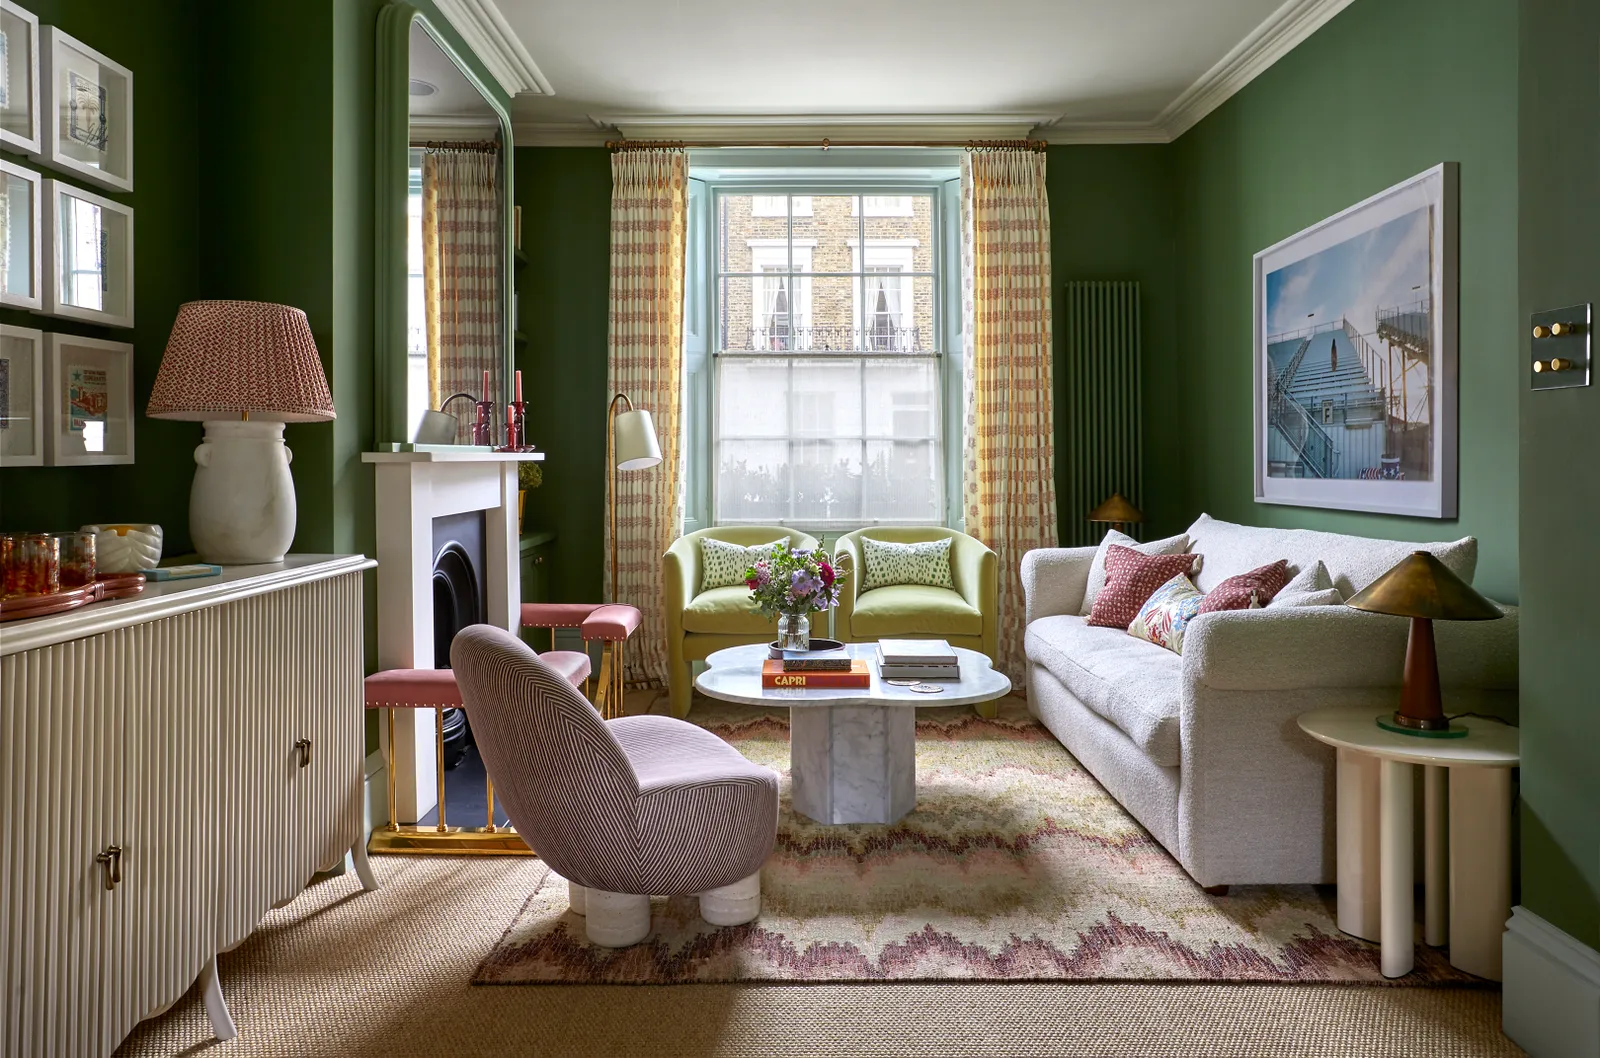chair: (446, 619, 783, 954), (661, 520, 827, 719), (835, 523, 1003, 662)
floor lamp: (596, 380, 666, 605)
flower vase: (737, 549, 844, 658)
side table: (1293, 705, 1528, 994)
sofa: (1018, 507, 1510, 896)
table: (694, 639, 1014, 829)
table lamp: (141, 295, 346, 564), (1345, 541, 1515, 737)
wall art: (1245, 157, 1465, 523), (47, 24, 146, 192), (39, 177, 145, 331), (45, 325, 141, 471), (0, 324, 48, 474), (2, 155, 45, 316), (0, 17, 45, 162)
